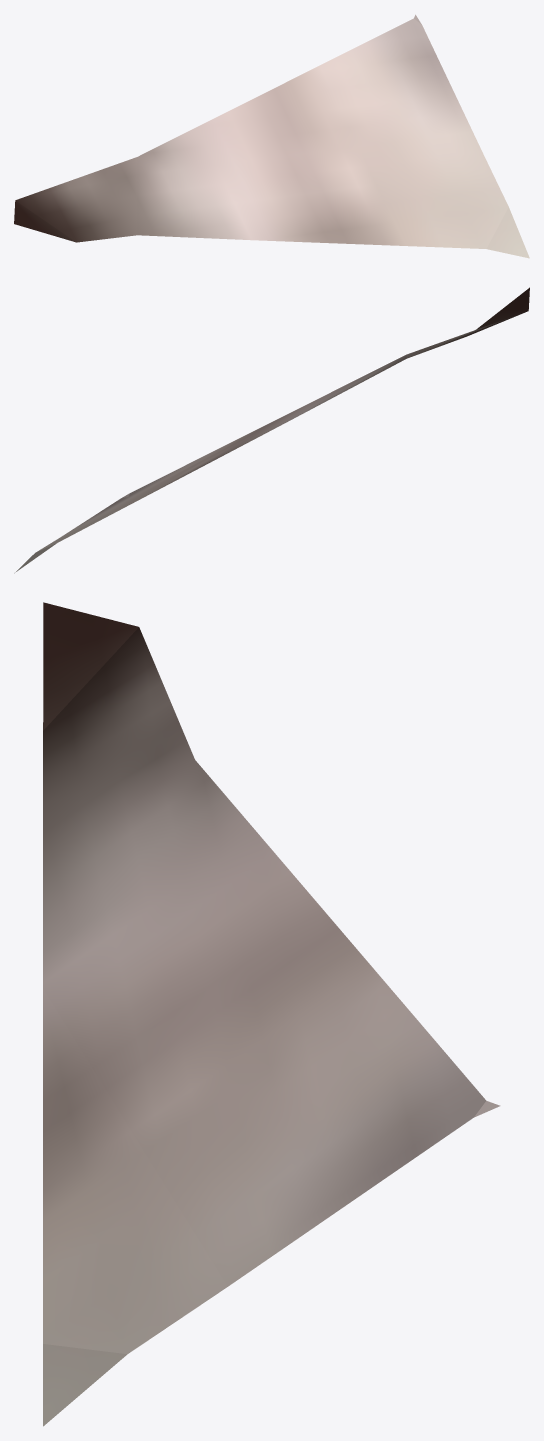
3 renders of one model, top to bottom at view 1: azimuth 30°, elevation 25°; view 2: azimuth 210°, elevation 25°; view 3: azimuth 270°, elevation 25°, orthographic. The views are drawn at different scales.
Size of the model in its own units: 0.0839 by 0.0249 by 0.0322.
Materials: 1 (1 with a texture image).
